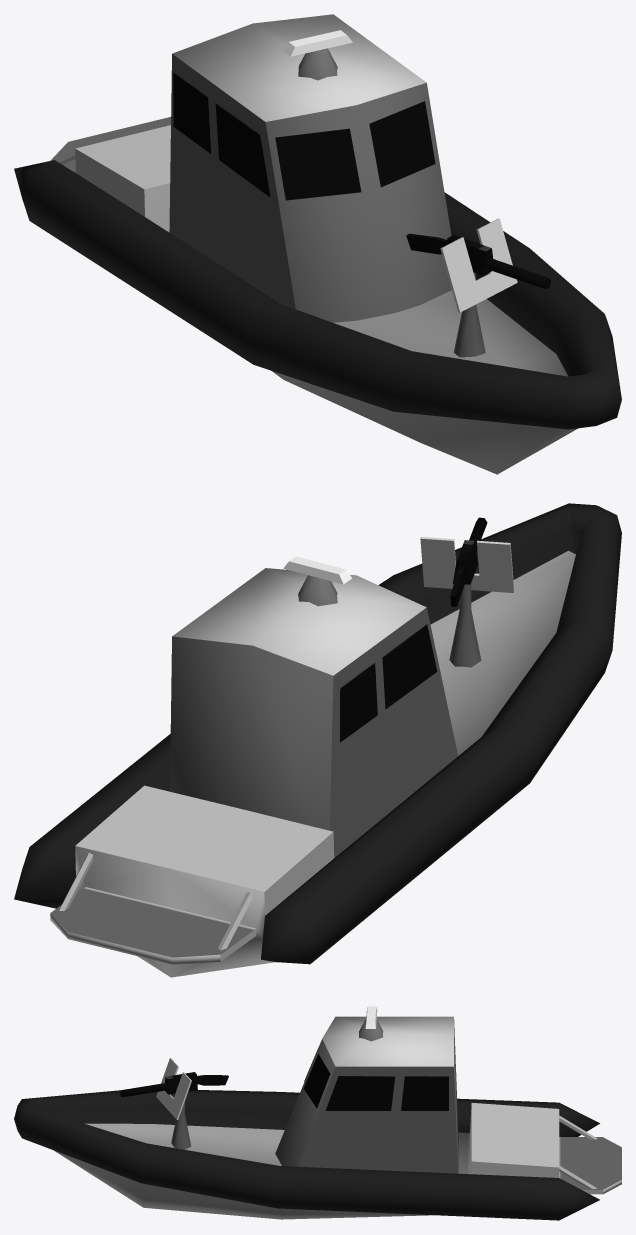
Rendered from Gun_Boat.DAE.
3 views of the same model, one above another, from view 1: azimuth 30°, elevation 25°; view 2: azimuth 150°, elevation 25°; view 3: azimuth 270°, elevation 25° (orthographic). The views are drawn at different scales.
Parts seen in each view (by area): view 1: GunBoat; view 2: GunBoat; view 3: GunBoat.
Boxes of the visible parts, bbox=[...] form: GunBoat: bbox=[14, 14, 621, 474]; GunBoat: bbox=[14, 503, 621, 977]; GunBoat: bbox=[14, 1006, 621, 1220].
Size of the model in its own units: 921 by 963 by 2585.
Materials: 1 (1 with a texture image).
